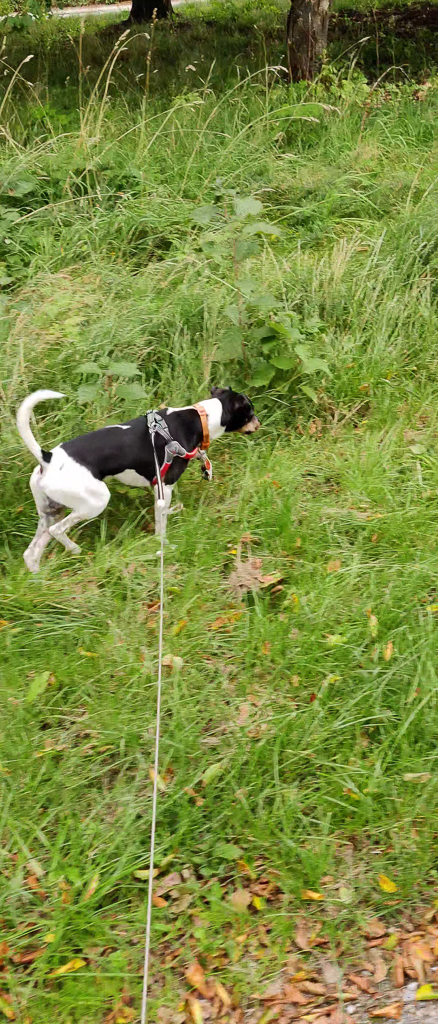Dog: (8, 374, 269, 588)
